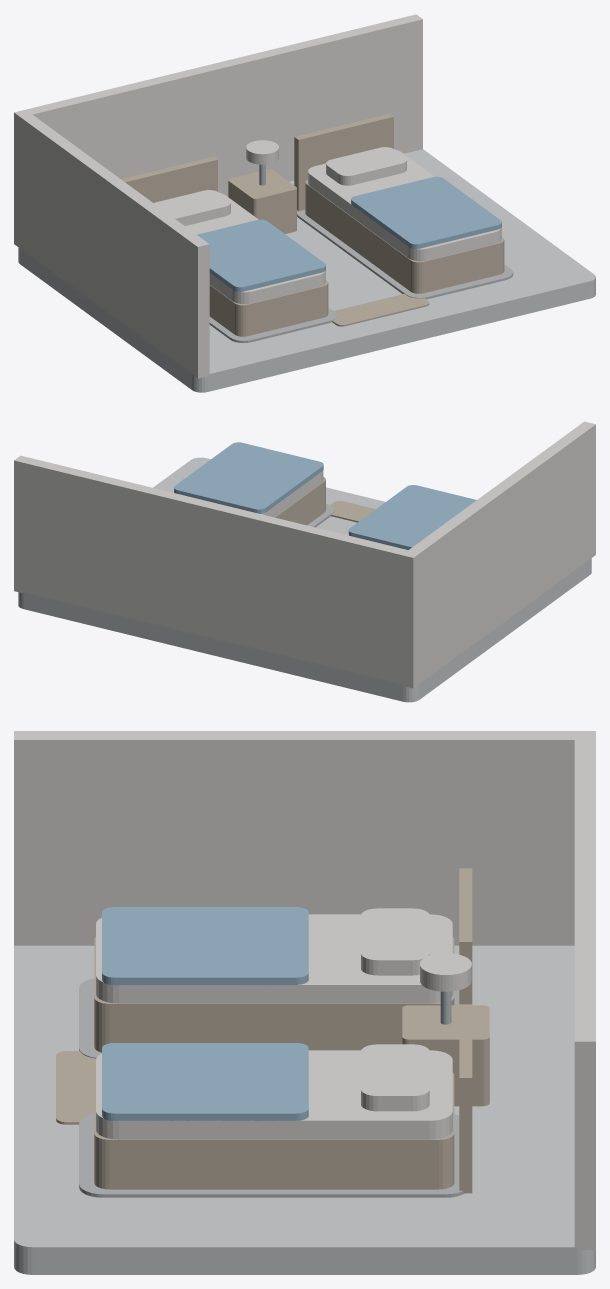
The model's file is room.glb.
The picture shows the model from 3 angles, top to bottom: view 1: azimuth 30°, elevation 25°; view 2: azimuth 150°, elevation 25°; view 3: azimuth 270°, elevation 25°; orthographic projection. The views are drawn at different scales.
Visible parts, largest first — view 1: room; view 2: room; view 3: room.
Boxes of the visible parts, x1,y1,x2,y2 form: room: (14,14,595,392); room: (14,421,595,702); room: (14,731,595,1274).
Size of the model in its own units: 4.8 by 1.68 by 3.8.
